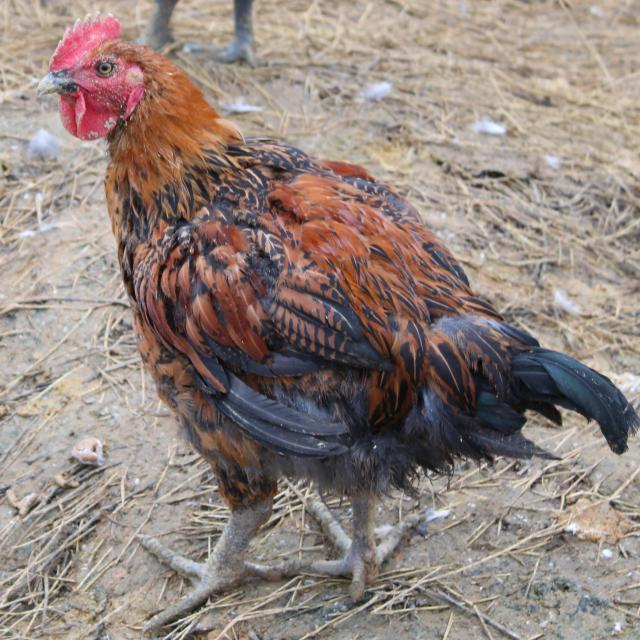hen: (39, 16, 638, 632)
